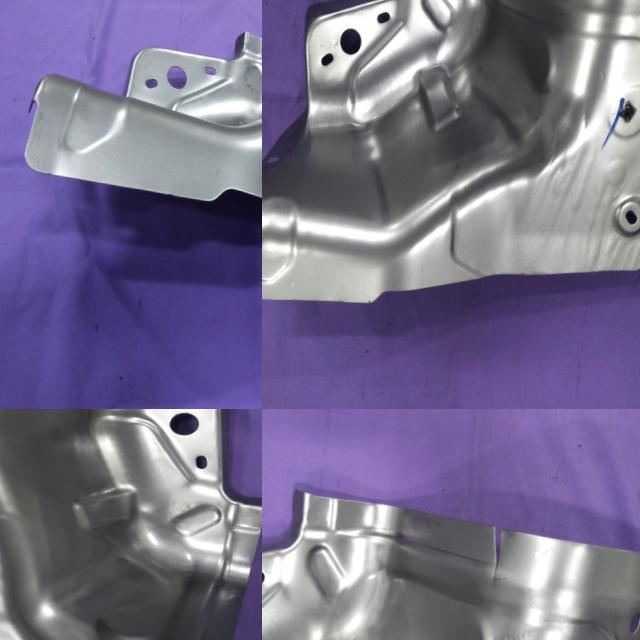Defect: (468, 503, 512, 582)
Healthy: (262, 0, 640, 343), (15, 0, 262, 288), (0, 409, 262, 640)
